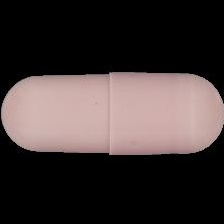55111-258: (0, 0, 224, 224)
